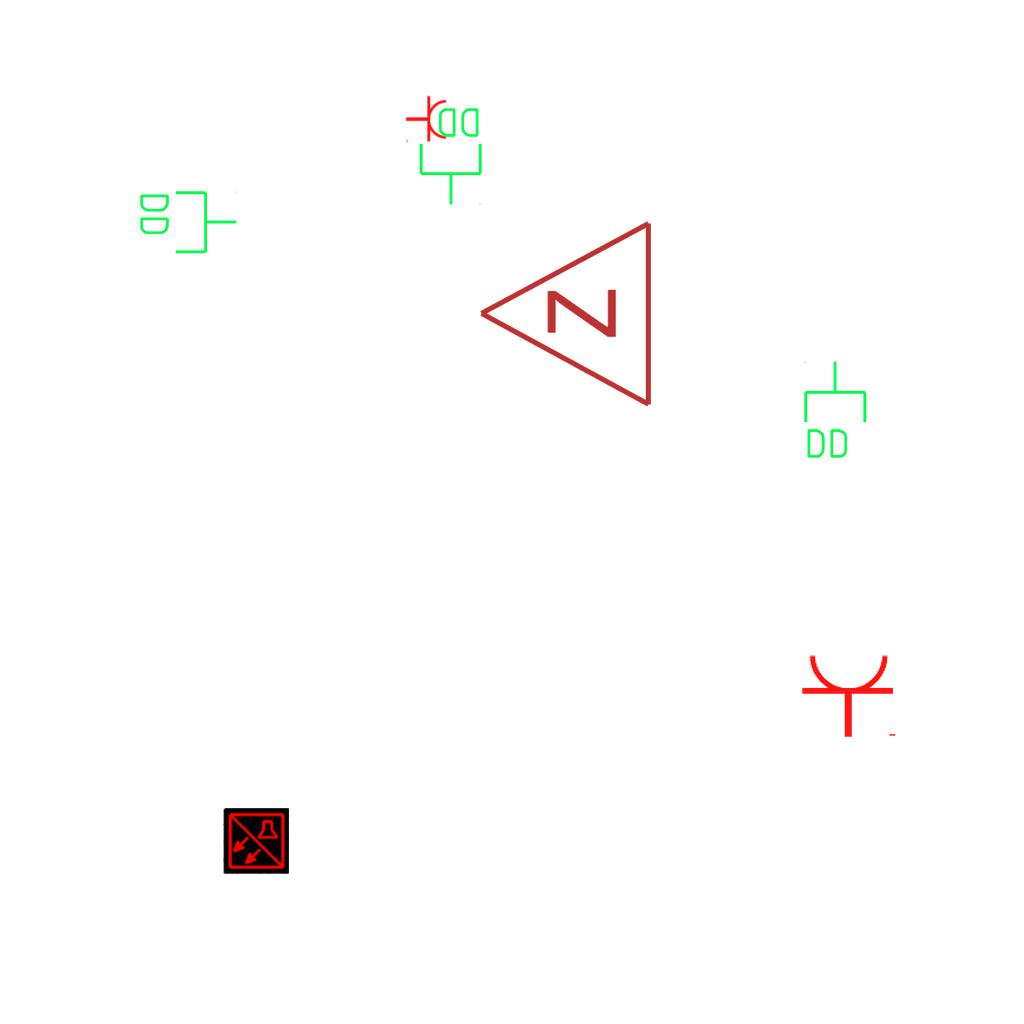Datenanschluss_zweifach: (800, 359, 869, 462), (136, 187, 239, 256), (417, 104, 486, 207)
OKW_Multisensormelder_(Kombination_optischer_Rauch-Kahlenmonoxid_Waerme-Melder): (223, 808, 289, 874)
Schukosteckdose_einfach: (800, 652, 900, 739), (405, 95, 448, 145)
Zimmersignalleuchte: (466, 218, 666, 414)
